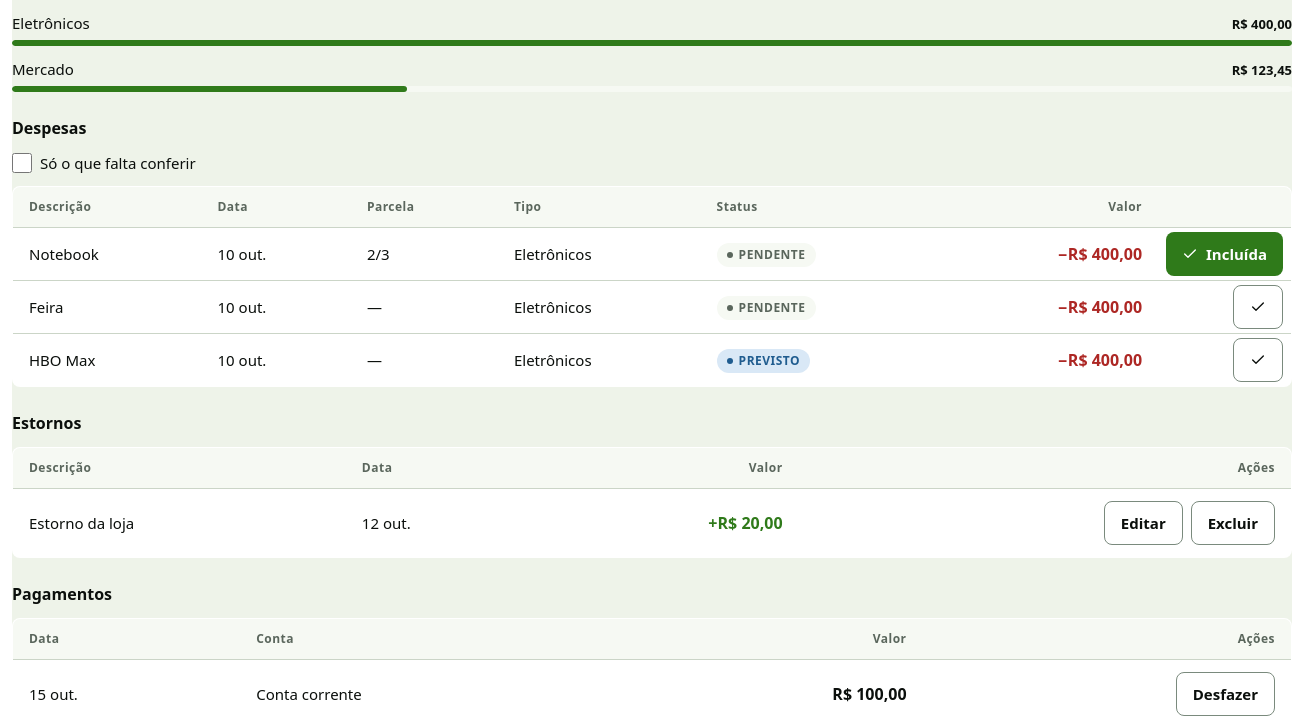
conferência da fatura (spec 0020) › confirms a FORECAST expense and shows the notice
(page scrolled)
Step 1. Click the button named "Marcar como incluída: HBO Max" → (1258, 360), box top-left (1233, 338), bottom-right (1283, 382)
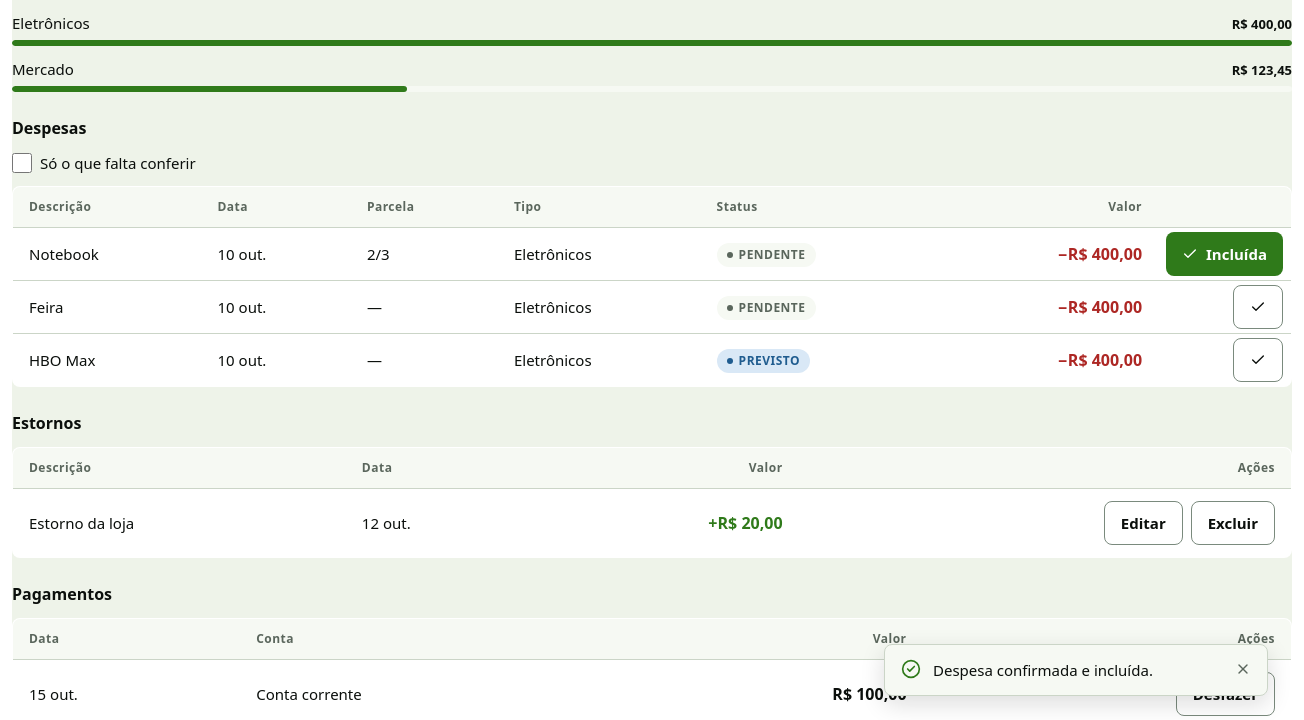
expect the text "Despesa confirmada e incluída." is shown: met, box top-left (933, 660), bottom-right (1153, 680)
